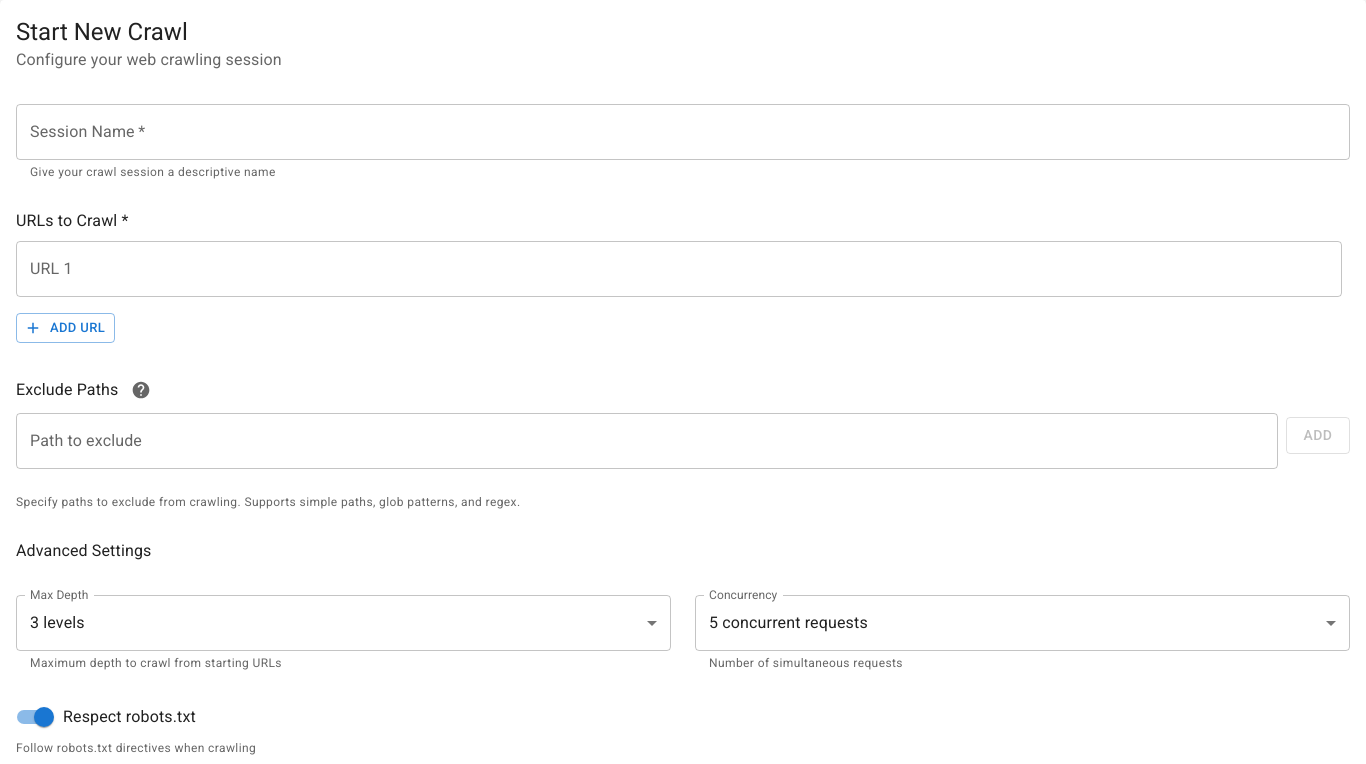
Test: CrawlForm - Path Exclusion Features › Pattern Validation Visual Indicators › should show success indicator for valid patterns
Type "/admin" into the field labelled "Path to exclude" at [647, 441], box [16,413,1278,469]
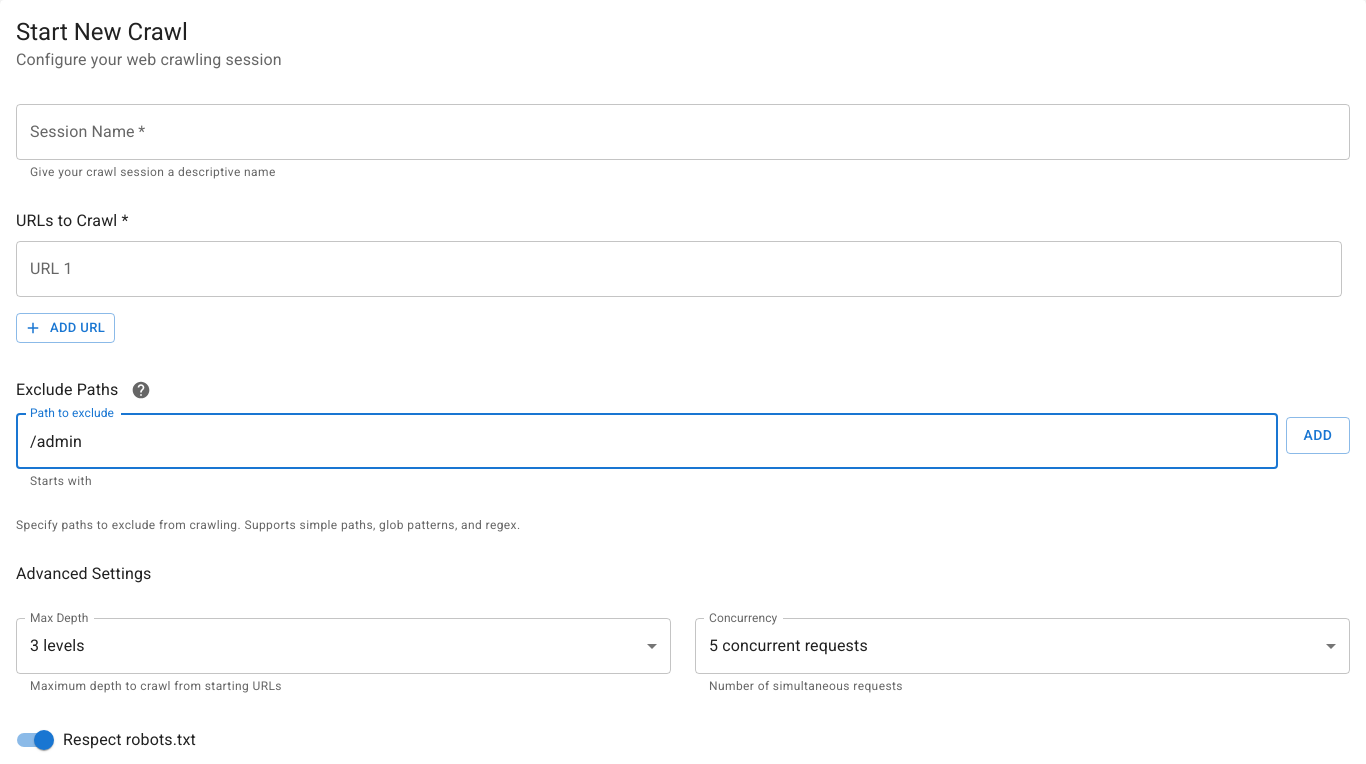
Click the button "Add" at [1318, 436], box [1286,417,1350,454]
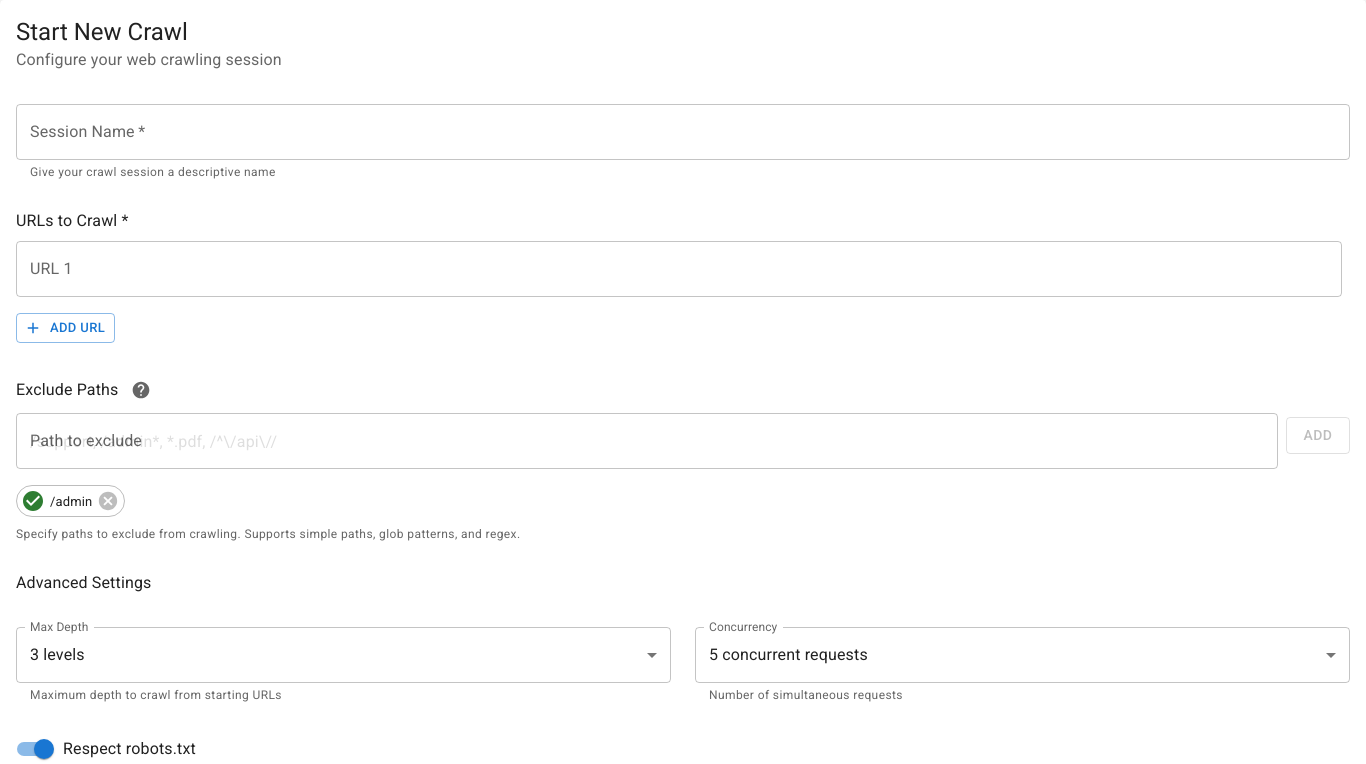
Expected: the icon with test id "CheckCircleIcon" is shown, [21,489,45,513]
